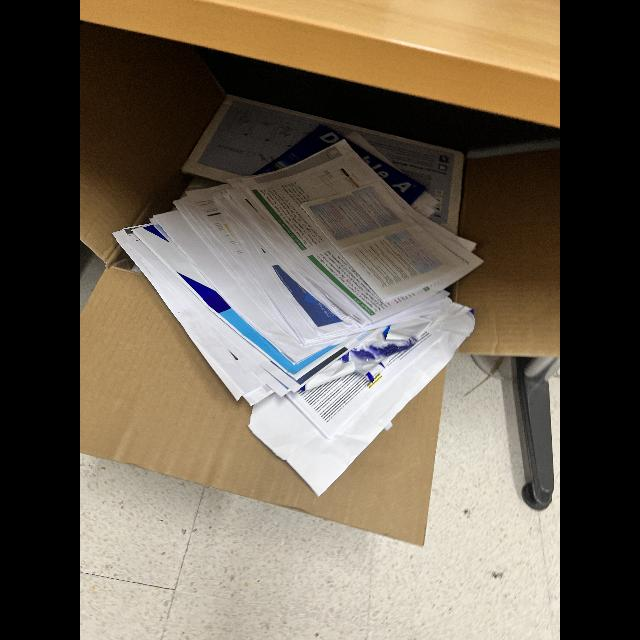reuseable_paper: (115, 142, 483, 494)
